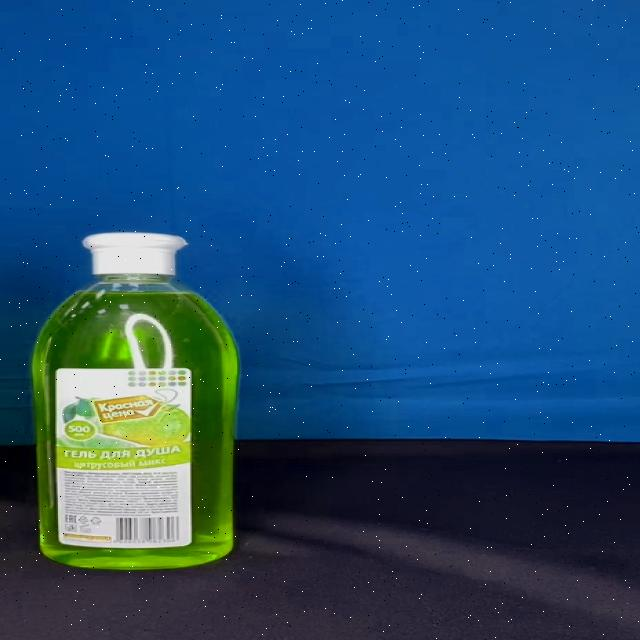Bottle: (30, 232, 239, 571)
Cap: (82, 232, 187, 276)
